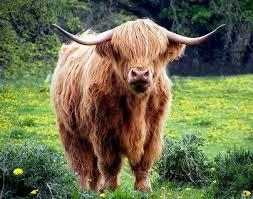cow: (50, 19, 226, 195)
